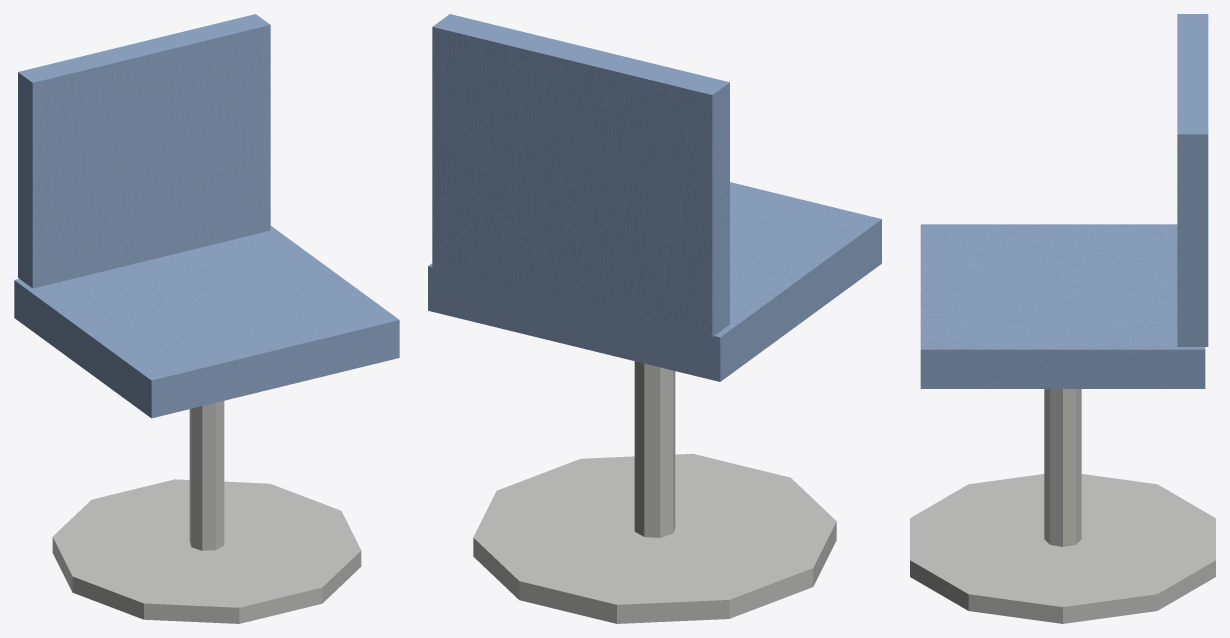
Rendered from cadeira_atendimento.glb.
3 renders of one model, left to right at view 1: azimuth 30°, elevation 25°; view 2: azimuth 150°, elevation 25°; view 3: azimuth 270°, elevation 25°, orthographic. The views are drawn at different scales.
Parts seen in each view (by area): view 1: cadeira_atendimento; view 2: cadeira_atendimento; view 3: cadeira_atendimento.
Part boxes in pixels (x1,y1,x2,y2): cadeira_atendimento: (14,14,399,623); cadeira_atendimento: (428,14,881,623); cadeira_atendimento: (910,14,1215,623).
Bounding box in the file's own units: 0.52 × 0.86 × 0.4946.
2 materials, 1 textured.
